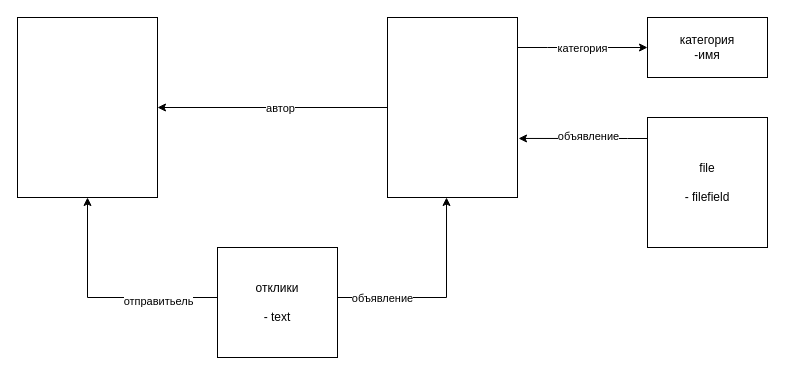
The diagram is 785 pixels wide and 375 high, and some of its shapes have lost their labels. Each missing label, with the centre of its shape:
объявление - заголовок - текст: [452,107]
пользователь - id - электронная почта - имя: [87,107]
